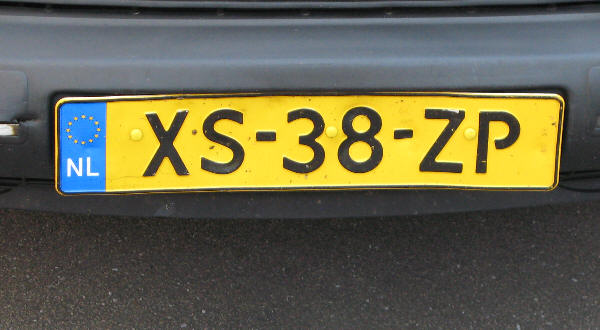license_plate: (56, 96, 561, 192)
